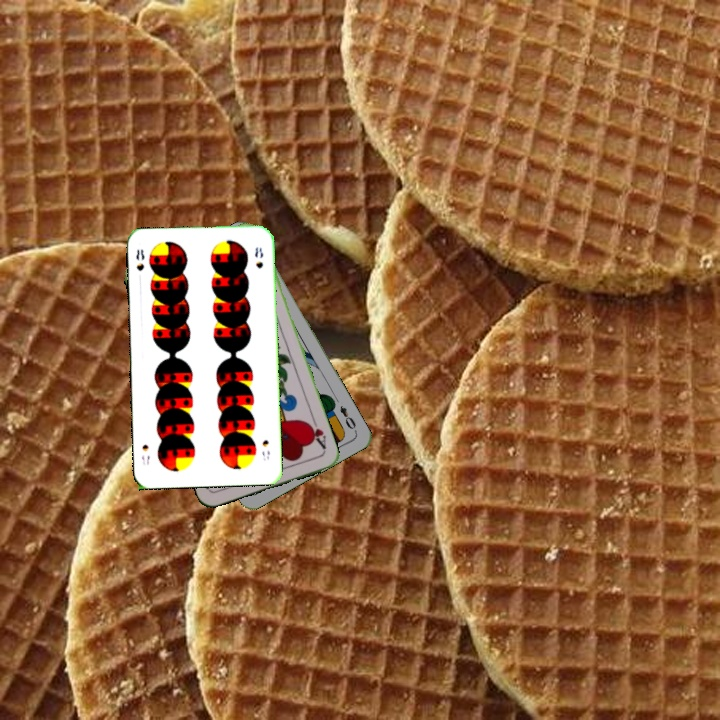EO: (335, 402, 359, 435)
HA: (304, 414, 329, 453)
S8: (132, 245, 147, 273), (258, 436, 272, 463)
